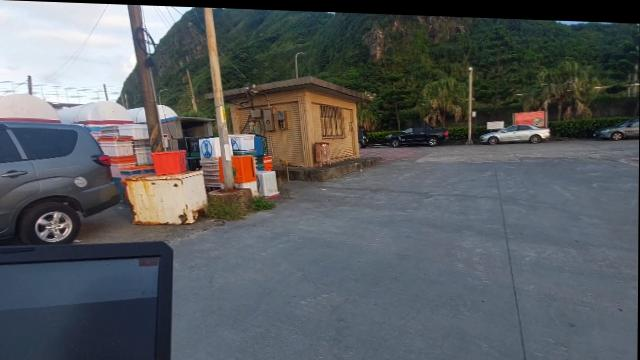pollute: (123, 168, 211, 223), (201, 136, 224, 191), (233, 155, 258, 197), (152, 149, 188, 174), (229, 131, 259, 155), (257, 168, 281, 198), (119, 164, 154, 179), (264, 153, 272, 168)
